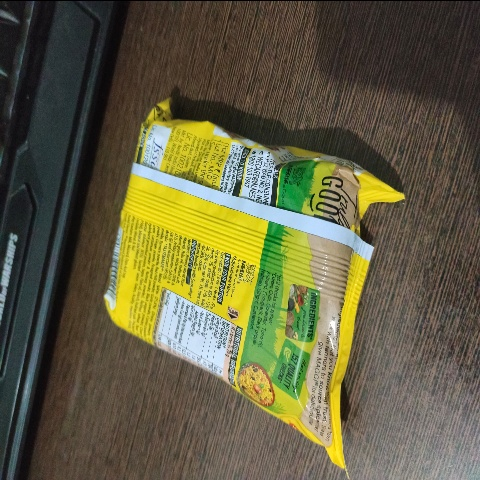maggi: (43, 83, 384, 452)
